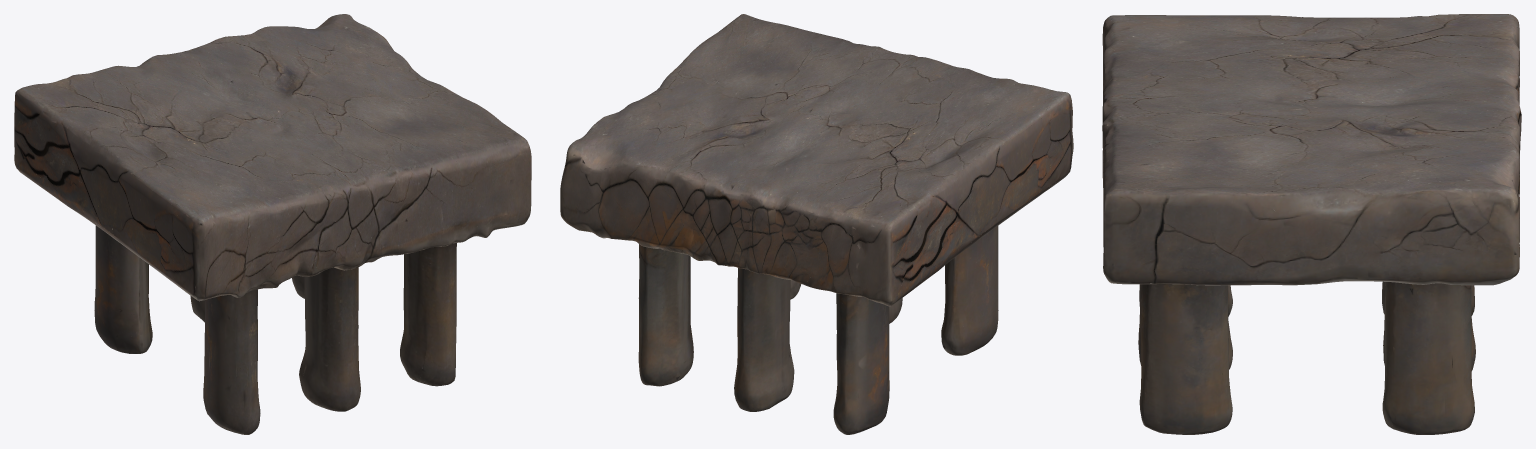
File: platform2.glb
3 renders of one model, left to right at view 1: azimuth 30°, elevation 25°; view 2: azimuth 150°, elevation 25°; view 3: azimuth 270°, elevation 25°, orthographic. The views are drawn at different scales.
Parts seen in each view (by area): view 1: Mesh_0; view 2: Mesh_0; view 3: Mesh_0.
Boxes of the visible parts, x1,y1,x2,y2 form: Mesh_0: (14,14,531,434); Mesh_0: (560,14,1073,434); Mesh_0: (1102,14,1521,434).
Size of the model in its own units: 1.09 by 0.7579 by 1.05.
Materials: 1 (1 with a texture image).
